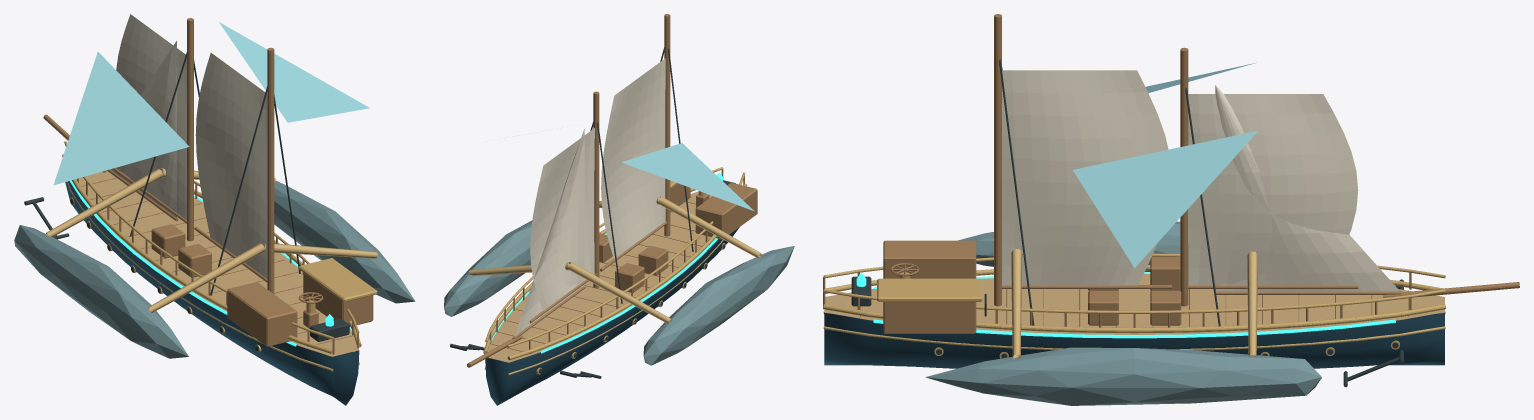
Rendered from premium_golden_clipper.glb.
The picture shows the model from 3 angles, left to right: view 1: azimuth 30°, elevation 25°; view 2: azimuth 150°, elevation 25°; view 3: azimuth 270°, elevation 25°; orthographic projection. The views are drawn at different scales.
Visible parts, largest first — view 1: premium_golden_clipper; view 2: premium_golden_clipper; view 3: premium_golden_clipper.
Boxes of the visible parts, box(x1,y1,x2,y2) form: premium_golden_clipper: box(14, 14, 415, 405); premium_golden_clipper: box(444, 14, 794, 405); premium_golden_clipper: box(823, 14, 1519, 405).
Size of the model in its own units: 9.56 by 8.7 by 15.71.
